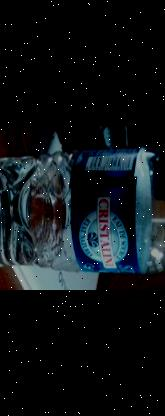Plastic Bottle: (0, 146, 165, 274)
